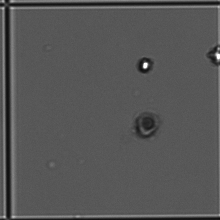Dead Cell: (133, 109, 162, 140)
Living Cell: (136, 55, 155, 74)
